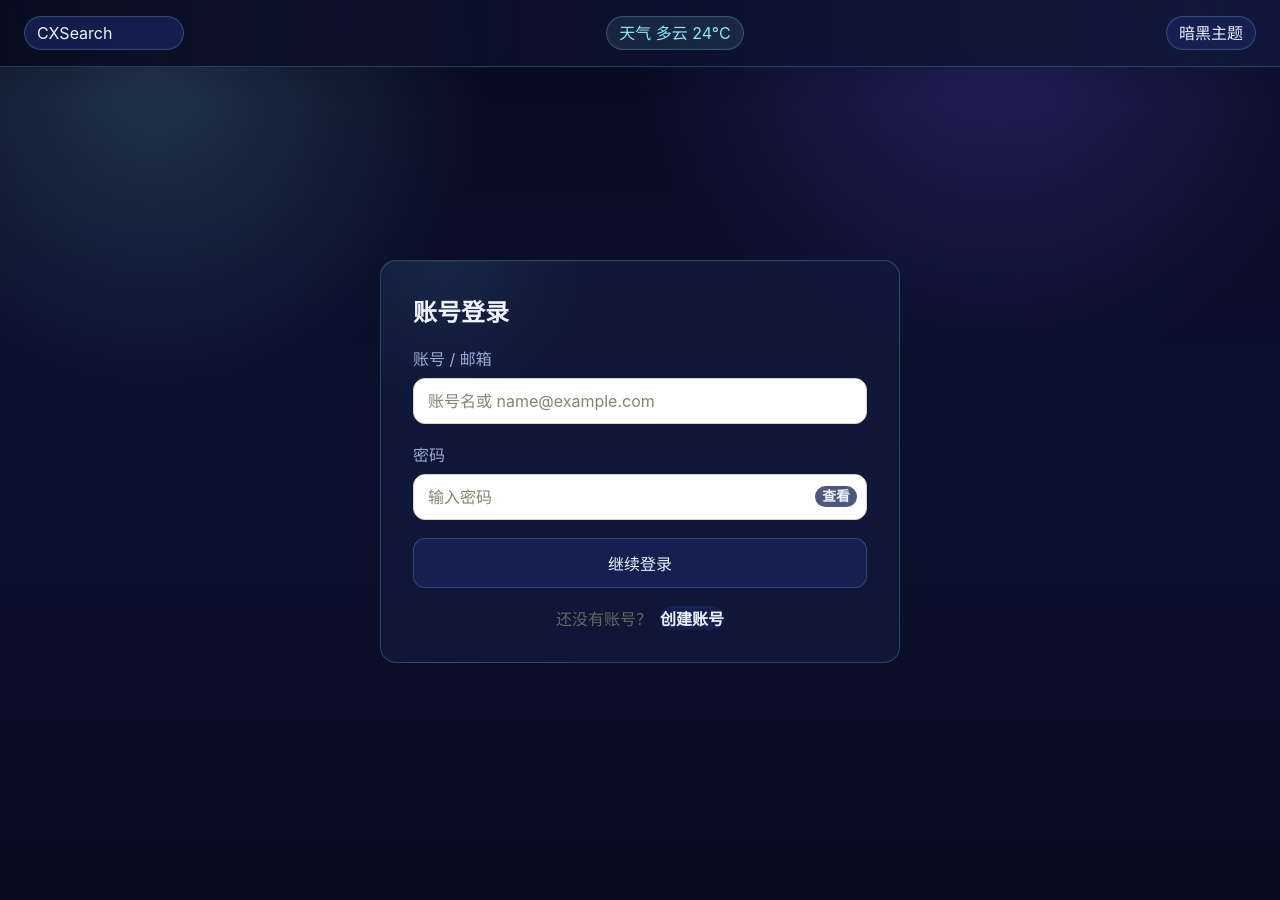
Test: remaining prototype routes › keeps registration behind a secondary create account action
Click the button "创建账号": coordinates (692, 618) left=660, top=606, right=724, bottom=630
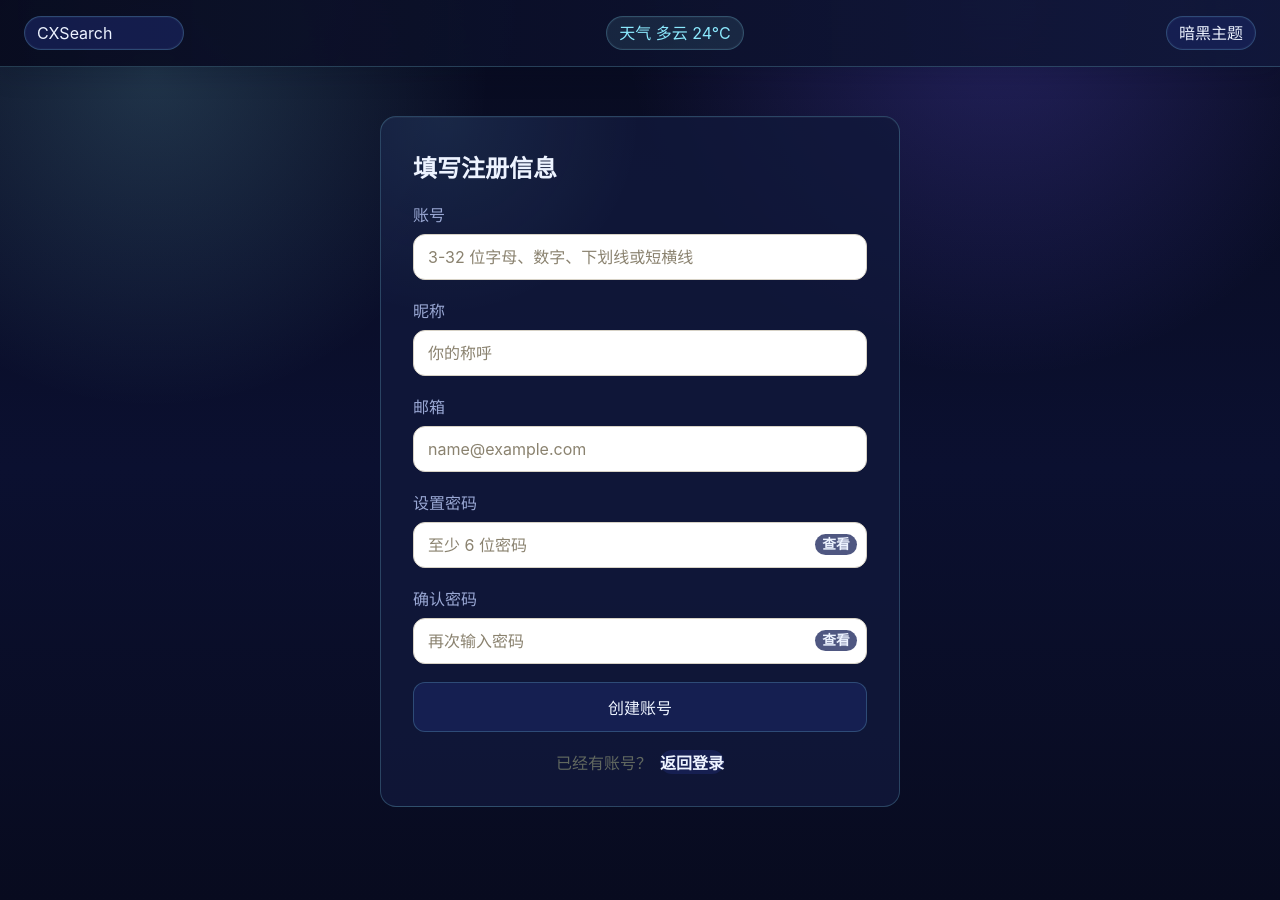
Check: the field labelled "账号" is shown, box left=413, top=234, right=867, bottom=280
Check: the heading "填写注册信息" is shown, box left=413, top=154, right=557, bottom=182
Check: the button "返回登录" is shown
Click the button "返回登录": coordinates (692, 762) left=660, top=750, right=724, bottom=774
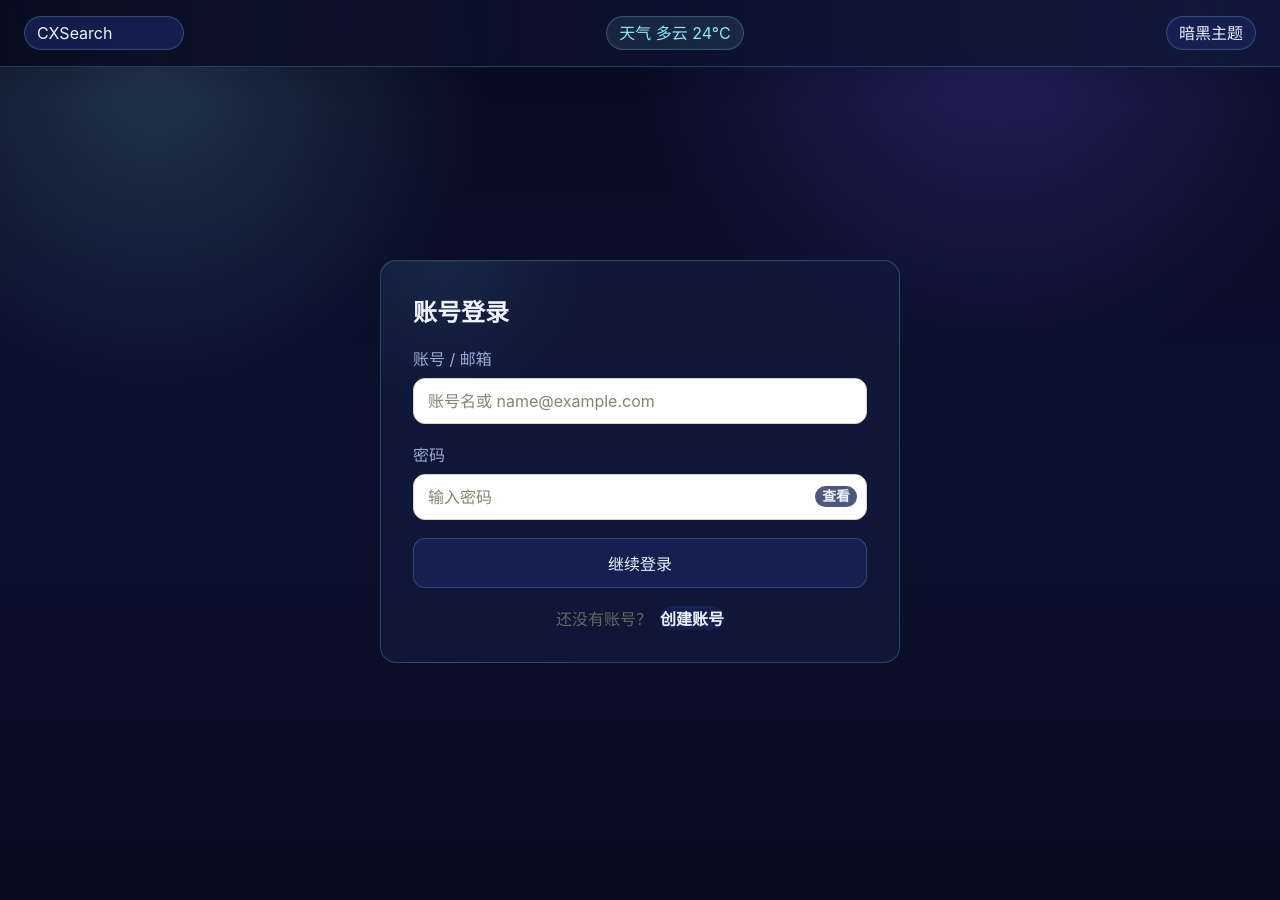
Check: the heading "账号登录" is shown, box left=413, top=298, right=509, bottom=326
